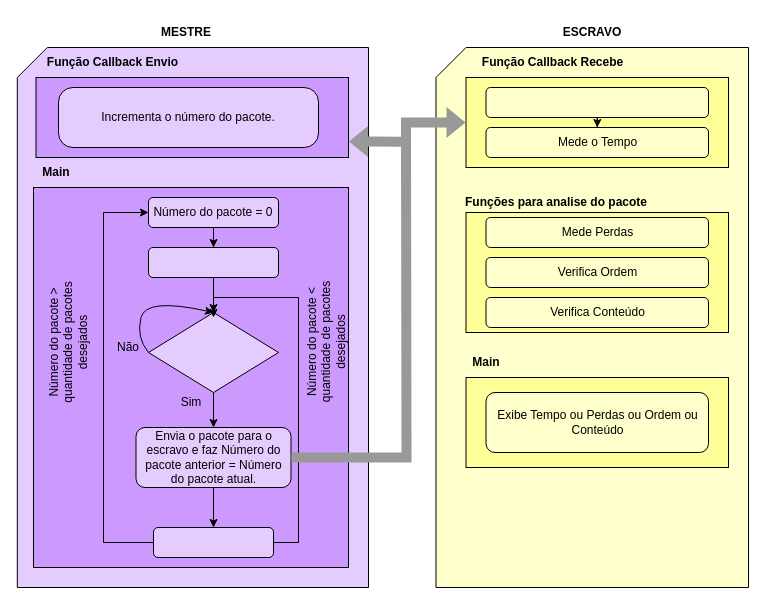
The diagram is 767 pixels wide and 605 high, and some of its shapes have lost their labels. The centre of each missing label's shape, as x and y in pixels:
Espera 1 us: the point at 213,542
Número do pacote >= (Número do pacote anterior + 1): the point at 213,352
Número do pacote anterior = -1: the point at 213,262
Recebe o pacote: the point at 596,102
